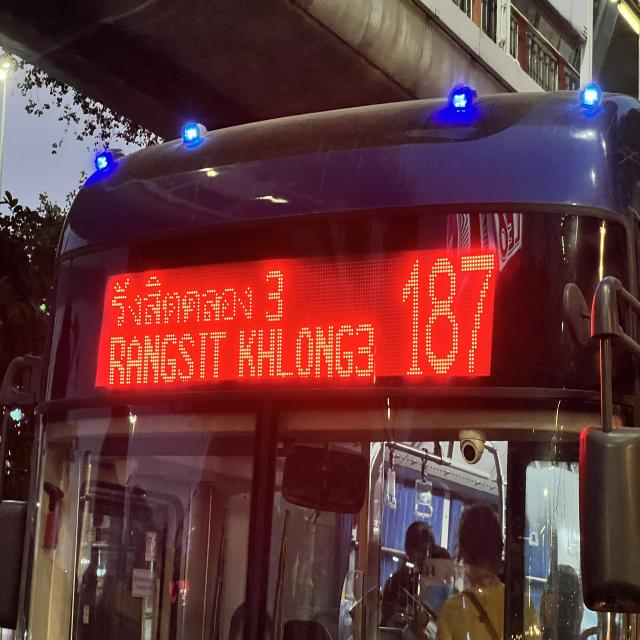Bus-Line-Number: (382, 244, 528, 394)
Destination-Sign-Normal: (87, 263, 380, 394)
TSB-Bus: (0, 69, 640, 640)
